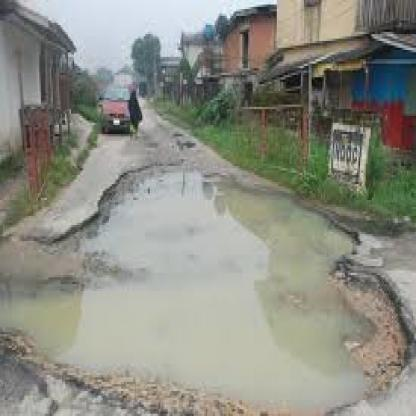car: (98, 76, 148, 144)
